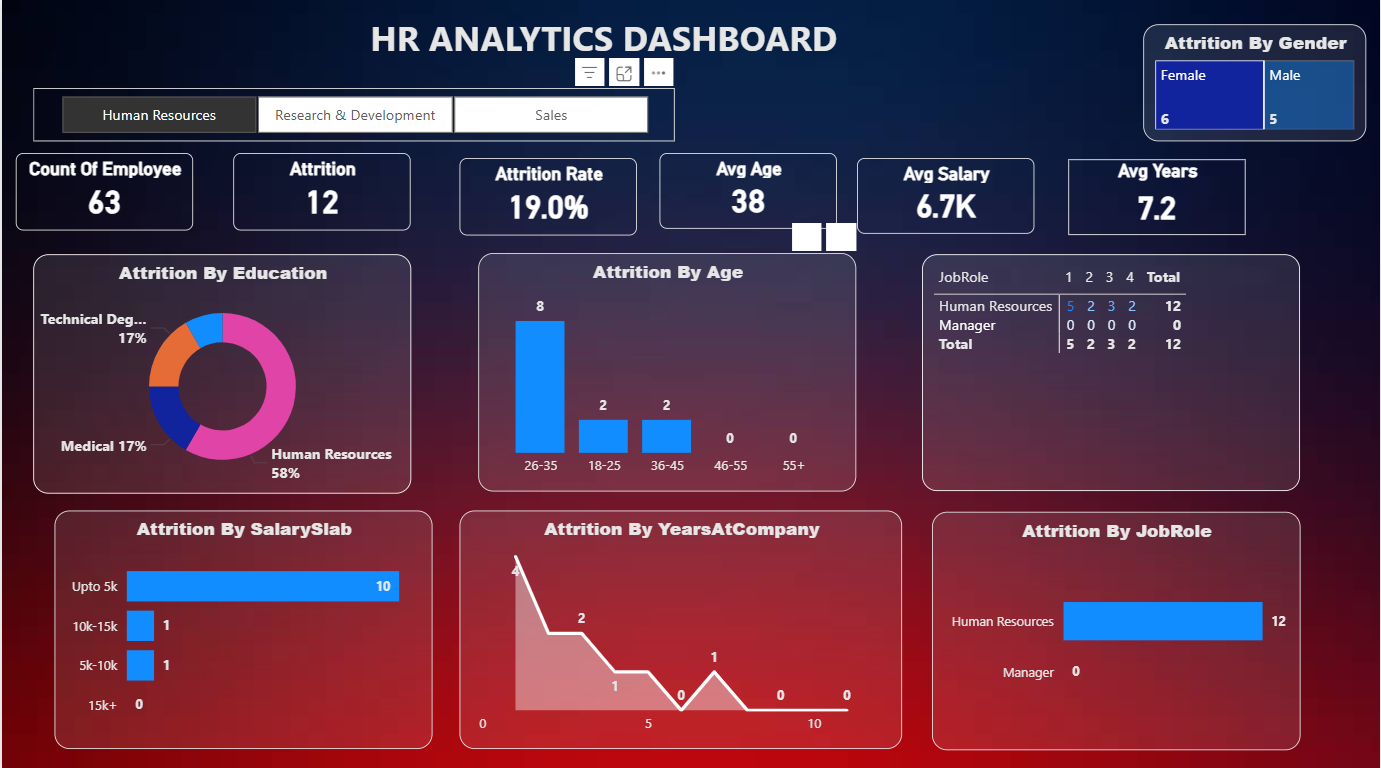

This screenshot's page, from the dashboard's own definition file:
{"tool":"powerbi","page":{"name":"Page 1","canvas":[1280,720],"ordinal":0},"visuals":[{"type":"card","title":"Count Of Employee","fields":{"Values":["Count(HR_Analytics (2).EmpID)"]},"box":[13.1,144.1,165.1,72.1],"z":0},{"type":"card","title":"Attrition","fields":{"Values":["Sum(HR_Analytics (2).AttritionCount)"]},"box":[214.9,144.1,165.1,72.1],"z":1000},{"type":"card","title":"Attrition Rate","fields":{"Values":["HR_Analytics (2).AttritionRate"]},"box":[424.6,148.1,165.1,72.1],"z":2000},{"type":"card","title":"Avg Age","fields":{"Values":["Avg(HR_Analytics (2).Age)"]},"box":[610.6,144.1,165.1,70.8],"z":3000},{"type":"card","title":"Avg Years","fields":{"Values":["Avg(HR_Analytics (2).YearsAtCompany)"]},"box":[990.7,149.4,165.1,70.8],"z":4000},{"type":"card","title":"Avg Salary","fields":{"Values":["Avg(HR_Analytics (2).MonthlyIncome)"]},"box":[794.1,148.1,165.1,70.8],"z":5000},{"type":"donutChart","title":"Attrition By Education","fields":{"Category":["HR_Analytics (2).EducationField"],"Y":["Sum(HR_Analytics (2).AttritionCount)"]},"box":[28.8,238.5,351.2,222.8],"z":6000},{"type":"columnChart","title":"Attrition By Age","fields":{"Category":["HR_Analytics (2).AgeGroup"],"Y":["Sum(HR_Analytics (2).AttritionCount)"]},"box":[442.9,237.2,351.2,221.5],"z":7000},{"type":"pivotTable","fields":{"Rows":["HR_Analytics (2).JobRole"],"Columns":["HR_Analytics (2).JobSatisfaction"],"Values":["Sum(HR_Analytics (2).AttritionCount)"]},"box":[854.4,238.5,351.2,220.1],"z":8000},{"type":"barChart","title":"Attrition By SalarySlab","fields":{"Category":["HR_Analytics (2).SalarySlab"],"Y":["Sum(HR_Analytics (2).AttritionCount)"]},"box":[48.5,475.7,351.2,221.5],"z":8001},{"type":"barChart","title":"Attrition By JobRole","fields":{"Category":["HR_Analytics (2).JobRole"],"Y":["Sum(HR_Analytics (2).AttritionCount)"]},"box":[863.6,477,342,221.5],"z":8002},{"type":"areaChart","title":"Attrition By YearsAtCompany","fields":{"Category":["HR_Analytics (2).YearsAtCompany"],"Y":["Sum(HR_Analytics (2).AttritionCount)"]},"box":[424.6,475.7,411.5,221.5],"z":8003},{"type":"treemap","title":"Attrition By Age","fields":{"Group":["HR_Analytics (2).Gender"],"Values":["Sum(HR_Analytics (2).AttritionCount)"]},"box":[1060.1,24.9,207,108.8],"z":8004},{"type":"slicer","fields":{"Values":["HR_Analytics (2).Department"]},"box":[28.8,83.9,596.2,49.8],"z":8005},{"type":"textbox","box":[83.9,10.5,951.4,57.7],"z":8006}]}

Visuals, with their boxes in screenshot pixels (x1, y1, x2, y2), scaled from the page's 1280x720 canvas onto the 1381x768 screenshot:
"Count Of Employee" card: bbox(14, 154, 192, 231)
"Attrition" card: bbox(232, 154, 410, 231)
"Attrition Rate" card: bbox(458, 158, 636, 235)
"Avg Age" card: bbox(659, 154, 837, 229)
"Avg Years" card: bbox(1069, 159, 1247, 235)
"Avg Salary" card: bbox(857, 158, 1035, 233)
"Attrition By Education" donutChart: bbox(31, 254, 410, 492)
"Attrition By Age" columnChart: bbox(478, 253, 857, 489)
pivotTable - HR_Analytics (2).JobRole x HR_Analytics (2).JobSatisfaction: bbox(922, 254, 1301, 489)
"Attrition By SalarySlab" barChart: bbox(52, 507, 431, 744)
"Attrition By JobRole" barChart: bbox(932, 509, 1301, 745)
"Attrition By YearsAtCompany" areaChart: bbox(458, 507, 902, 744)
"Attrition By Age" treemap: bbox(1144, 27, 1367, 143)
slicer - HR_Analytics (2).Department: bbox(31, 89, 674, 143)
textbox: bbox(91, 11, 1117, 73)
